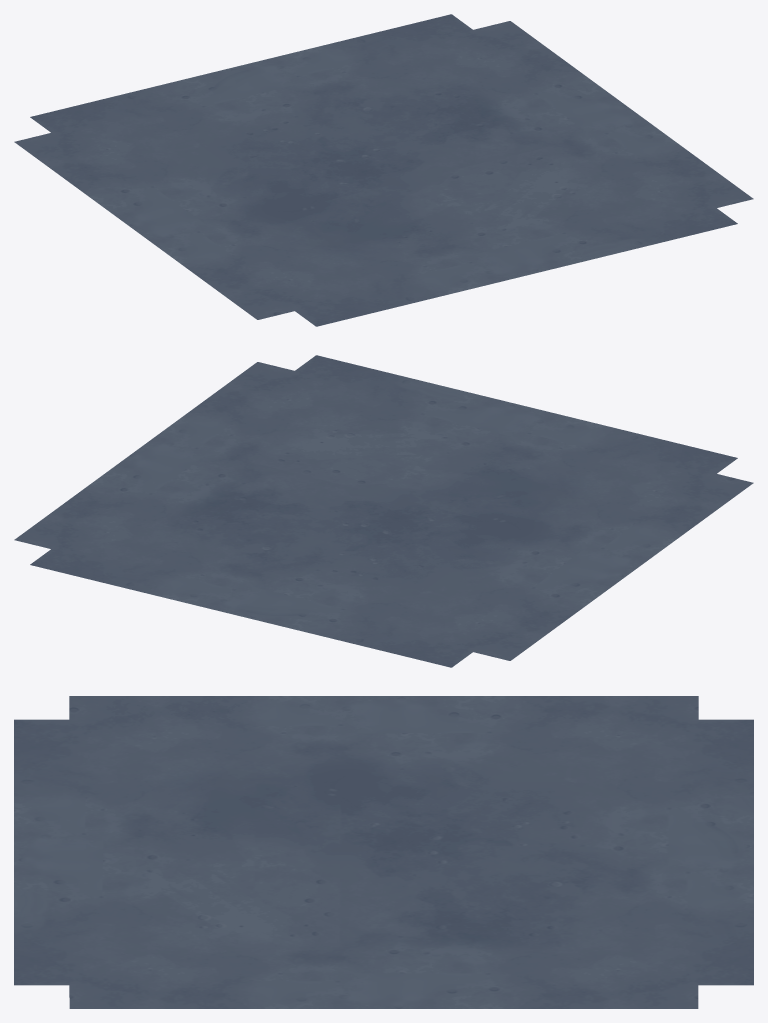
The model's file is dungeon_ground_corner4.FBX.
3 views of the same model, one above another, from view 1: azimuth 30°, elevation 25°; view 2: azimuth 150°, elevation 25°; view 3: azimuth 270°, elevation 25° (orthographic). The views are drawn at different scales.
Parts seen in each view (by area): view 1: Object126; view 2: Object126; view 3: Object126.
Part boxes in pixels (box(x1,y1,x2,y2)): Object126: box(14, 14, 753, 326); Object126: box(14, 355, 753, 667); Object126: box(14, 696, 753, 1008).
Size of the model in its own units: 1000 by 6.12e-14 by 1000.
Materials: 1 (1 with a texture image).
